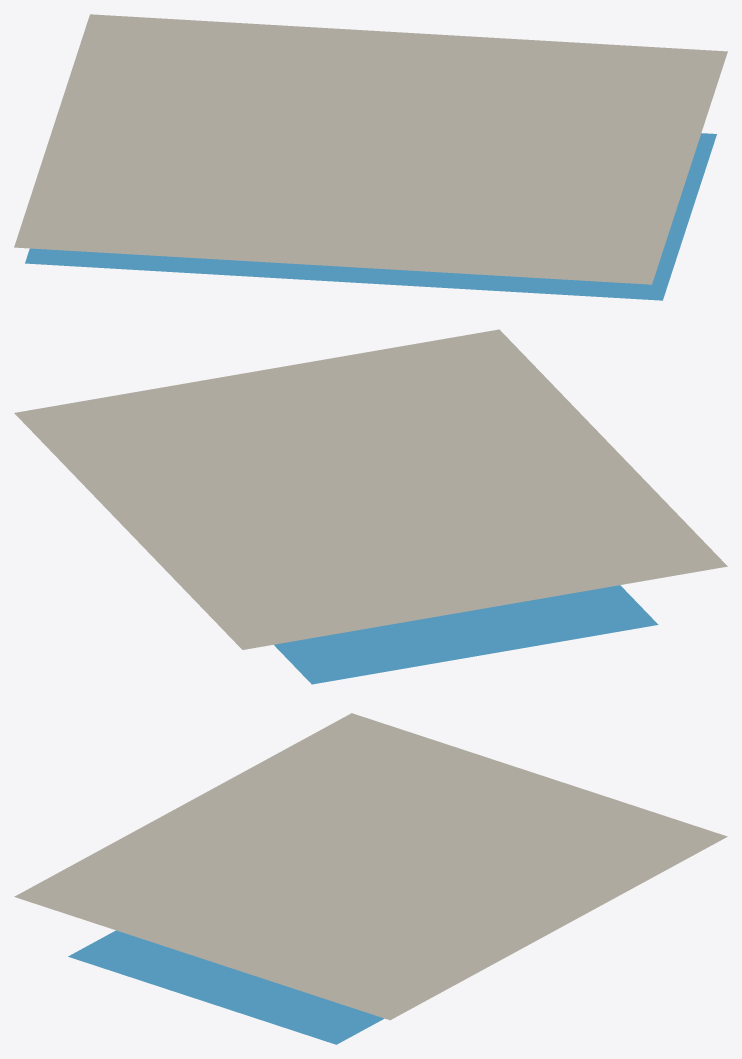
3 views of the same model, one above another, from view 1: azimuth 30°, elevation 25°; view 2: azimuth 150°, elevation 25°; view 3: azimuth 270°, elevation 25° (orthographic). The views are drawn at different scales.
Parts seen in each view (by area): view 1: estructura_terreno, estructura_agua; view 2: estructura_terreno, estructura_agua; view 3: estructura_terreno, estructura_agua.
Boxes of the visible parts, left/top/right/bottom form: estructura_terreno: left=14, top=14, right=727, bottom=284; estructura_agua: left=25, top=133, right=716, bottom=300; estructura_terreno: left=14, top=329, right=727, bottom=649; estructura_agua: left=274, top=585, right=658, bottom=684; estructura_terreno: left=14, top=713, right=727, bottom=1020; estructura_agua: left=68, top=930, right=384, bottom=1044.
Size of the model in its own units: 6.41 by 0.41 by 6.29.
